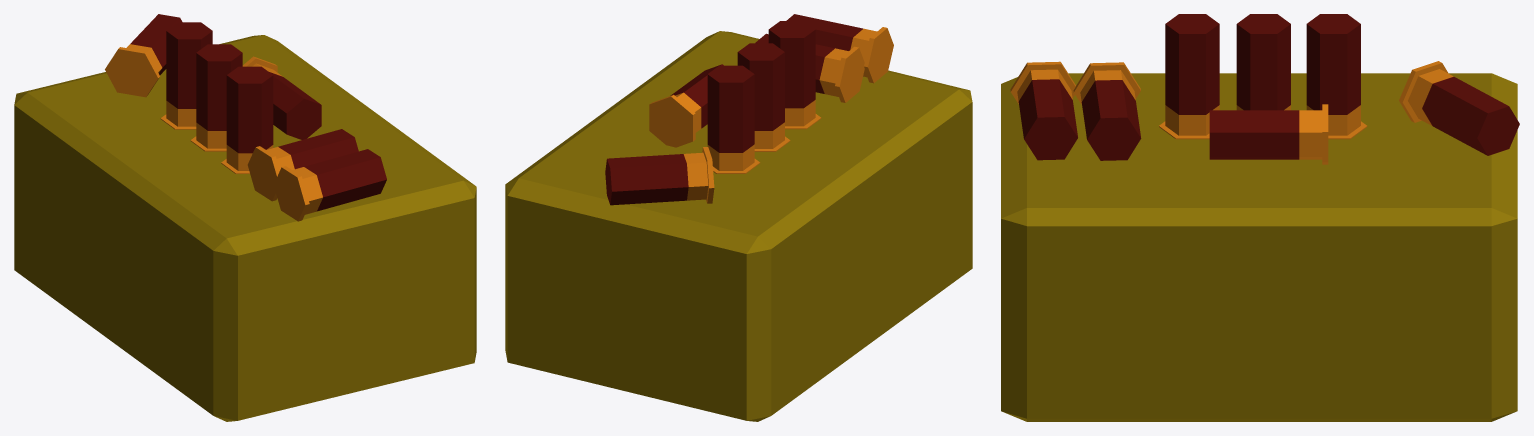
The model's file is ammo_12g.glb.
3 renders of one model, left to right at view 1: azimuth 30°, elevation 25°; view 2: azimuth 150°, elevation 25°; view 3: azimuth 270°, elevation 25°, orthographic. The views are drawn at different scales.
Parts seen in each view (by area): view 1: item_ammo_12g; view 2: item_ammo_12g; view 3: item_ammo_12g.
Part boxes in pixels (x1,y1,x2,y2): item_ammo_12g: (14,14,476,421); item_ammo_12g: (505,14,972,421); item_ammo_12g: (1001,14,1519,421).
Bounding box in the file's own units: 0.1503 × 0.1483 × 0.22.
